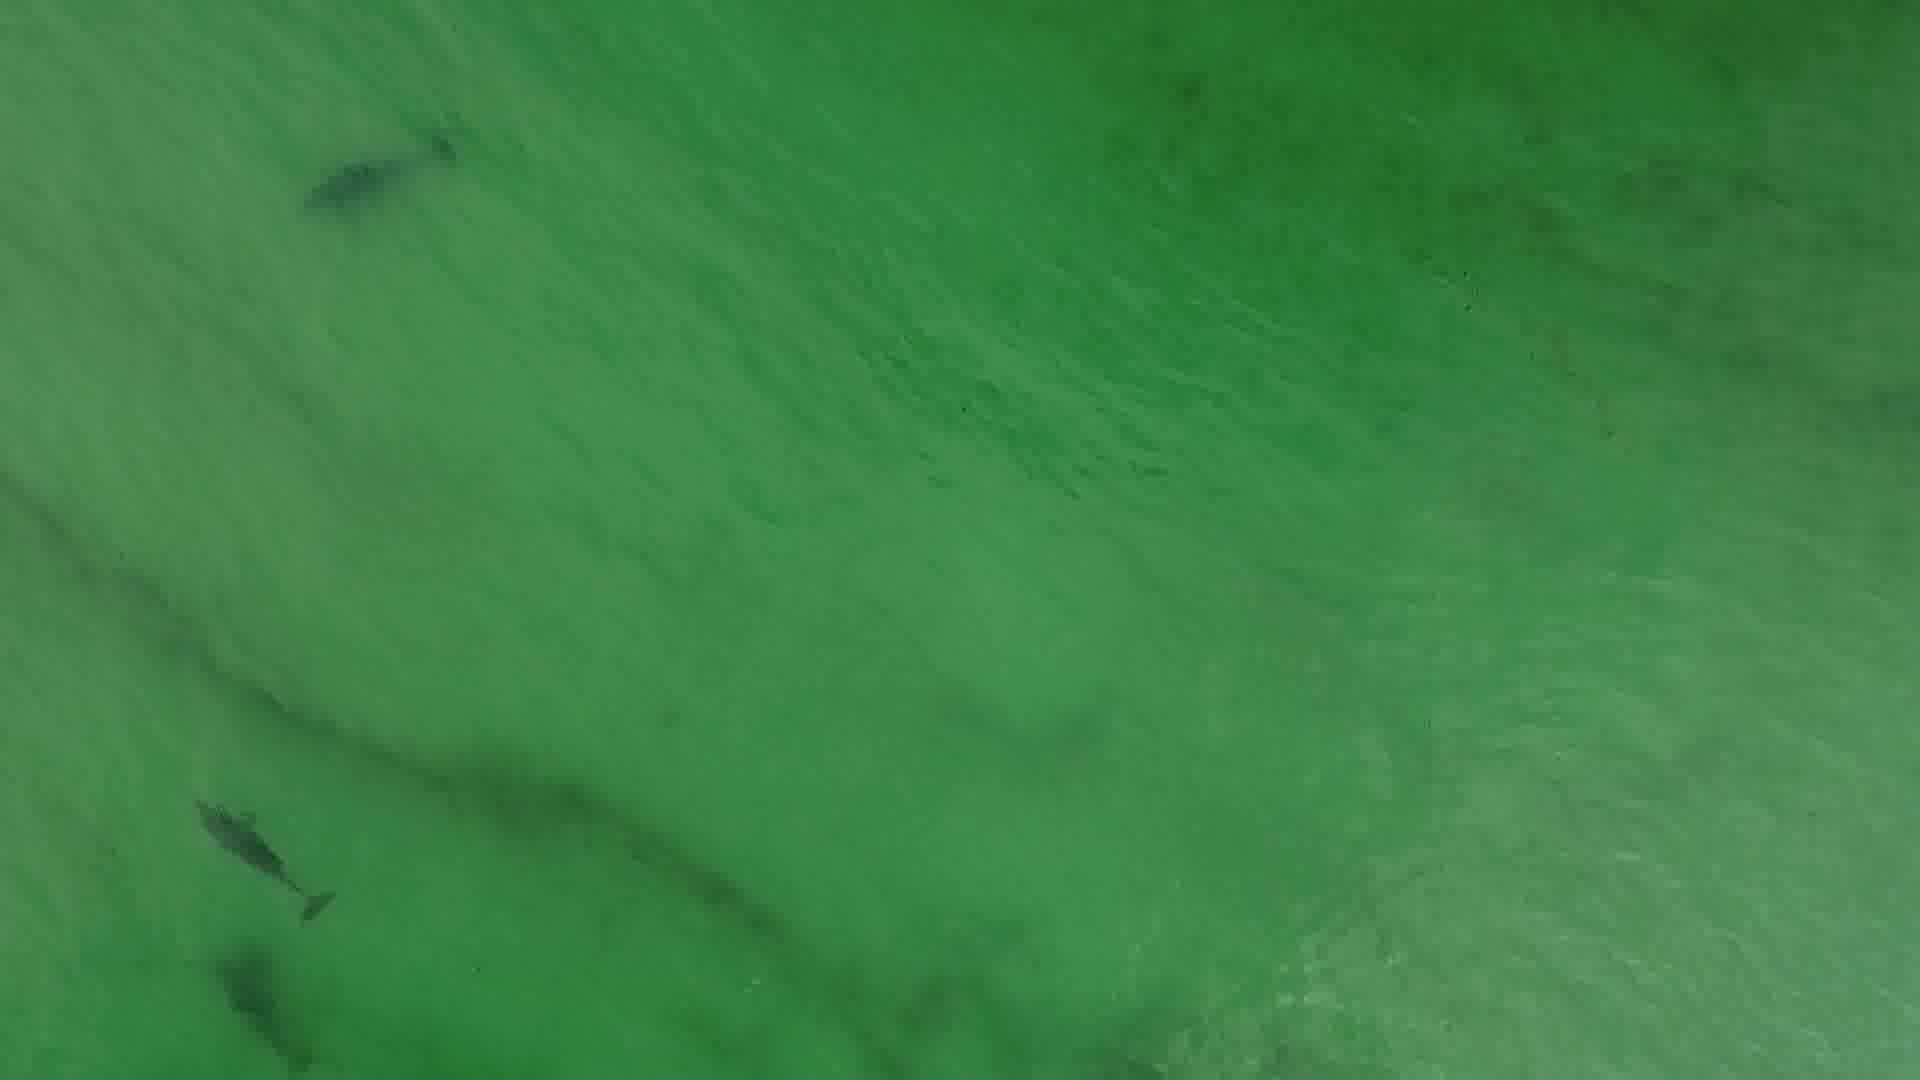dolphin: (164, 769, 348, 938)
